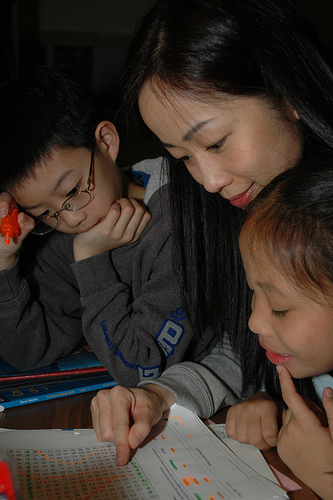without_mask: (137, 31, 309, 212), (7, 118, 143, 252), (232, 208, 333, 383)
